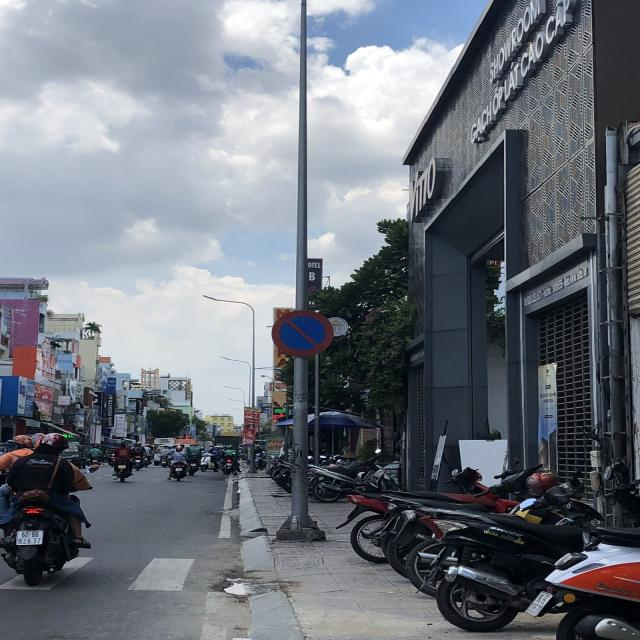Bien bao cam do xe: (268, 306, 340, 360)
